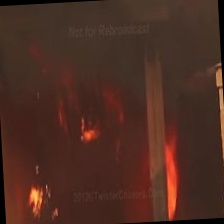smoke: (0, 0, 172, 92)
